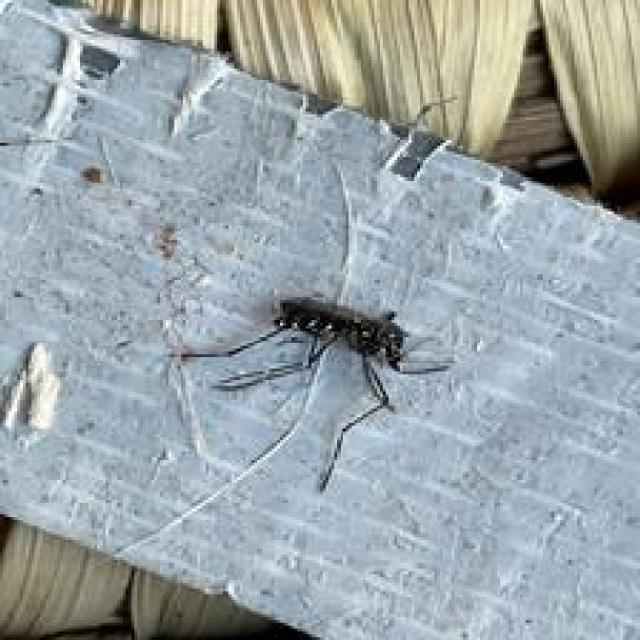Aedes albopictus: (170, 292, 456, 494)
